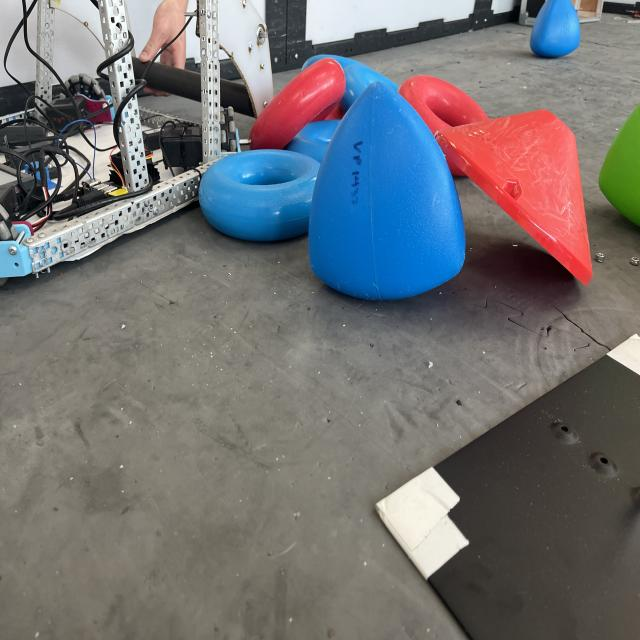Blue-Ring: (199, 150, 320, 242)
Red-Ring: (250, 58, 345, 150), (399, 75, 489, 133)
